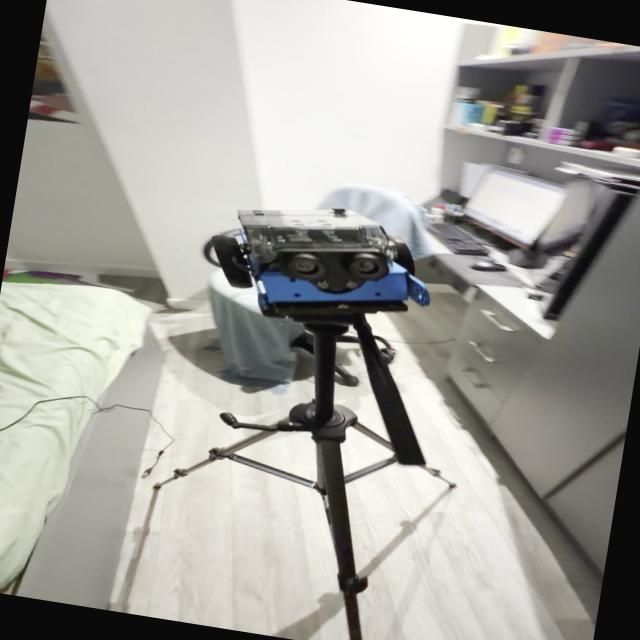mbot-detection: (195, 180, 450, 339)
